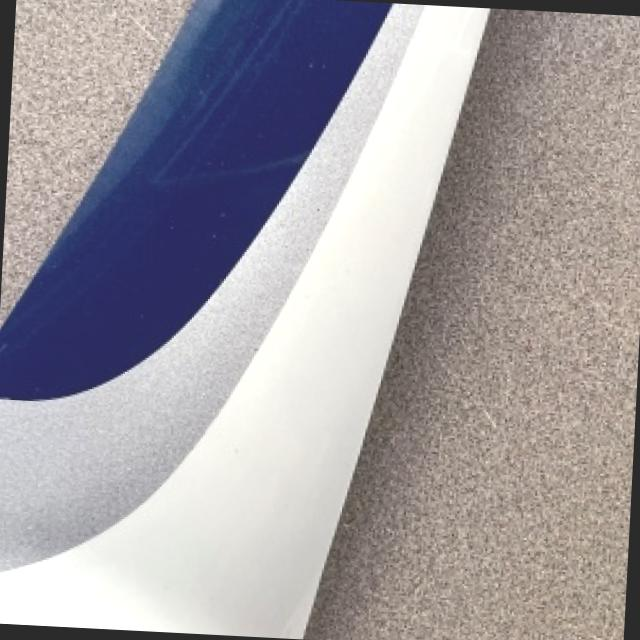healthy: (0, 4, 490, 637), (18, 0, 164, 171)
